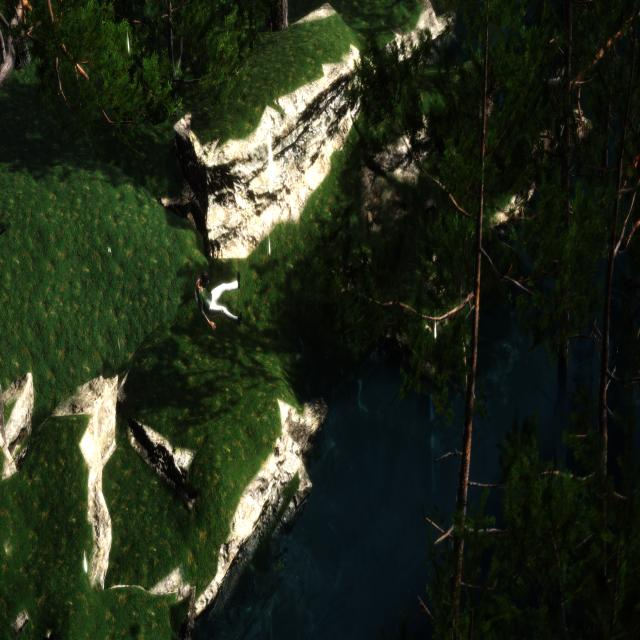Human: (194, 276, 245, 329)
